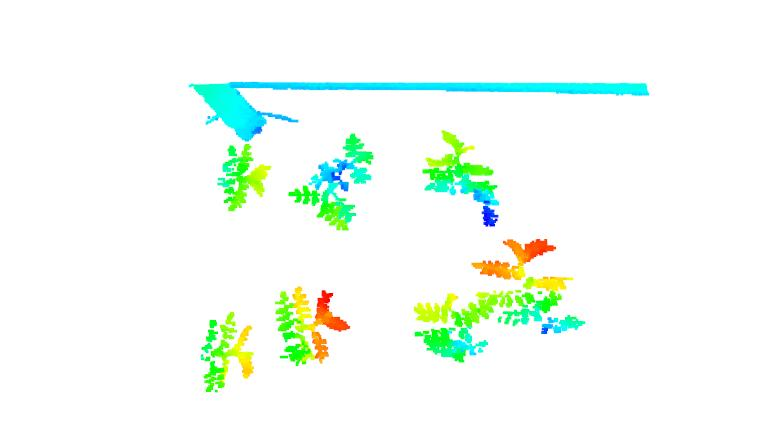chickpea: (471, 236, 584, 336), (289, 131, 375, 232), (420, 128, 501, 227), (273, 285, 354, 368), (411, 292, 497, 363), (200, 312, 261, 397), (213, 140, 270, 216)
